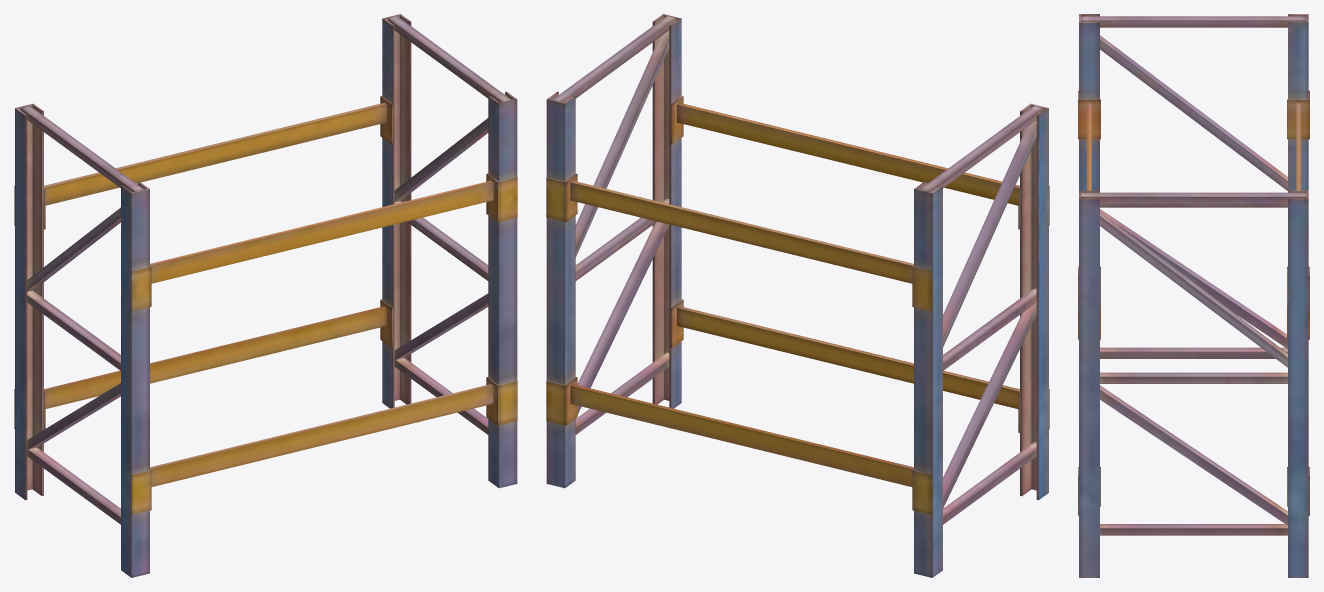
File: ss-pallet-rack.lod1.glb
The picture shows the model from 3 angles, left to right: view 1: azimuth 30°, elevation 25°; view 2: azimuth 150°, elevation 25°; view 3: azimuth 270°, elevation 25°; orthographic projection.
Visible parts, largest first — view 1: PalletRacking_1_PalletRacking_1_0; view 2: PalletRacking_1_PalletRacking_1_0; view 3: PalletRacking_1_PalletRacking_1_0.
Part boxes in pixels (x1,y1,x2,y2): PalletRacking_1_PalletRacking_1_0: [14, 14, 517, 577]; PalletRacking_1_PalletRacking_1_0: [546, 14, 1049, 577]; PalletRacking_1_PalletRacking_1_0: [1078, 14, 1309, 577].
Size of the model in its own units: 4.2 by 4 by 2.22.
1 material, 1 textured.
